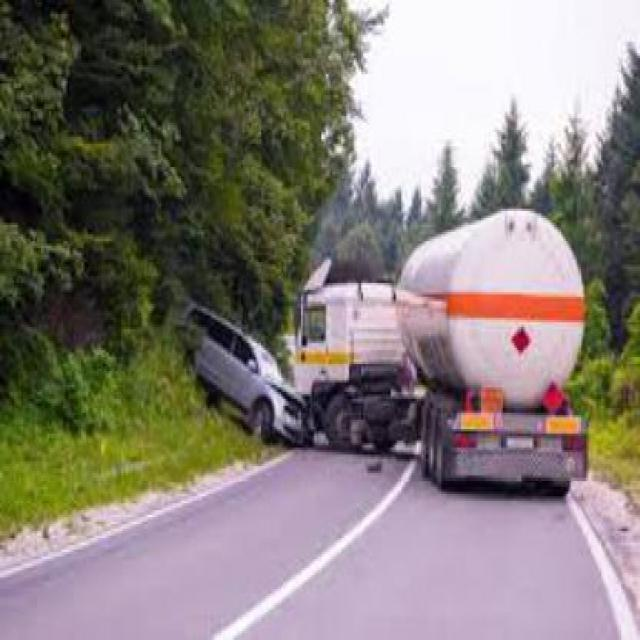accident: (166, 200, 606, 506)
